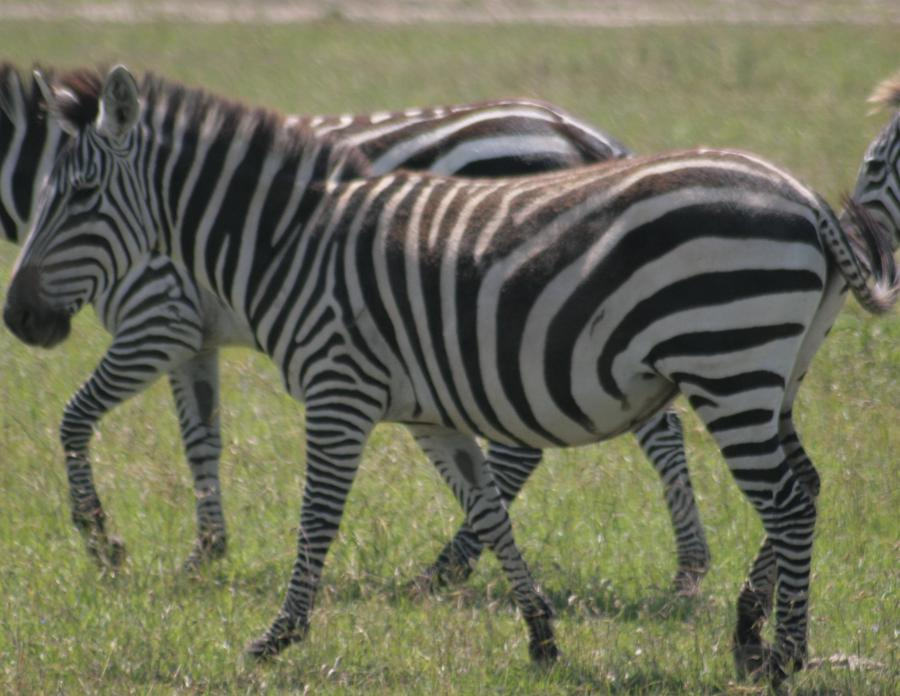zebra_plains: (266, 165, 819, 443)
